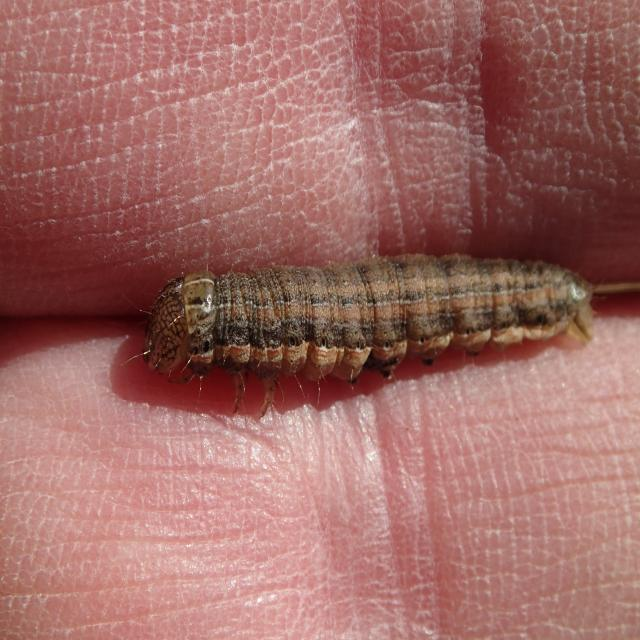Cutworm: (126, 268, 598, 400)
